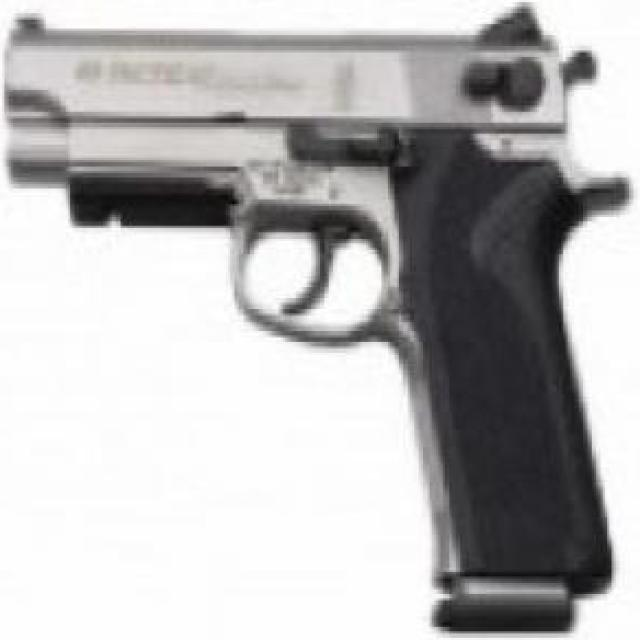pistol: (13, 2, 617, 638)
